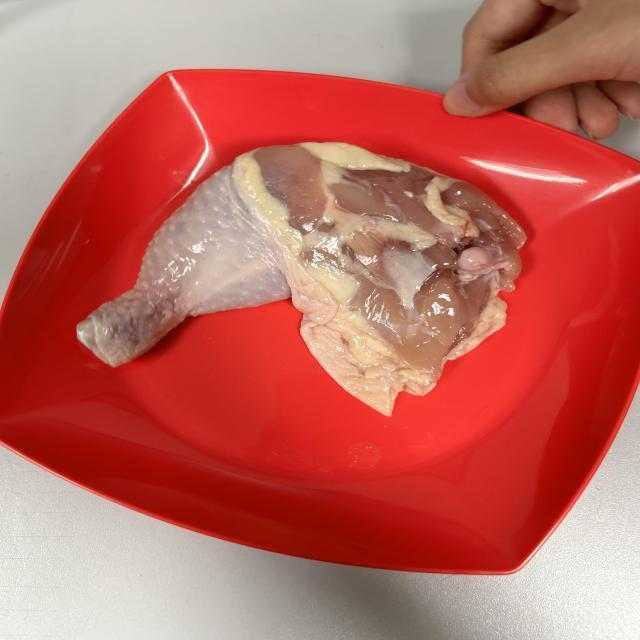quater: (72, 138, 526, 406)
